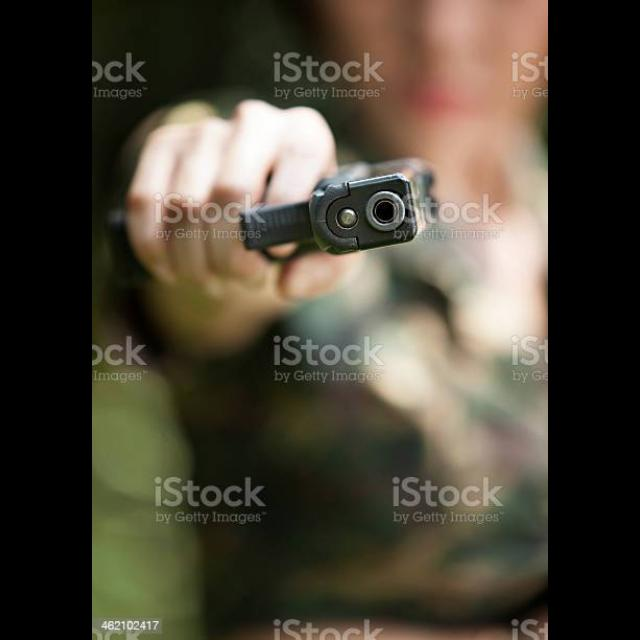handgun: (233, 155, 447, 265)
